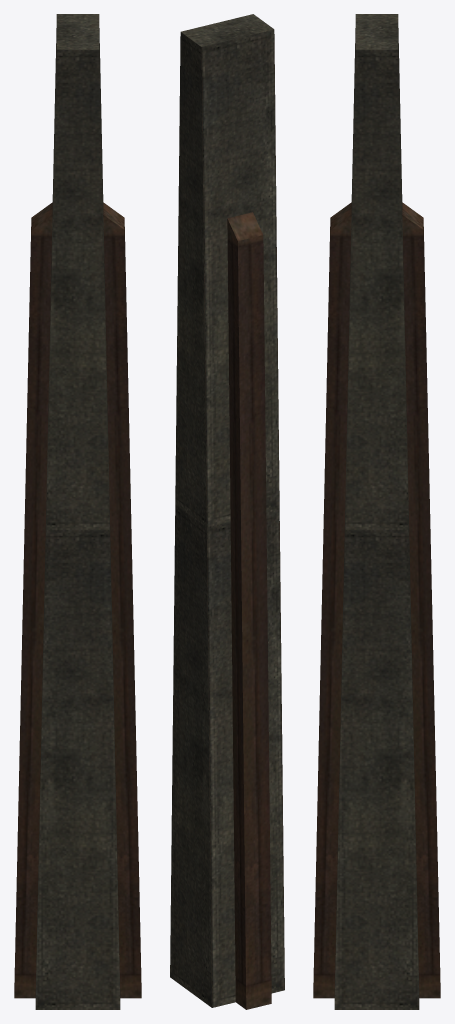
The model's file is metal_fence_hr_1_pillar_1_tall.obj.
The picture shows the model from 3 angles, left to right: view 1: azimuth 90°, elevation 25°; view 2: azimuth 210°, elevation 25°; view 3: azimuth 270°, elevation 25°; orthographic projection.
Visible parts, largest first — view 1: metal_fence_hr_1_pillar_1_tall; view 2: metal_fence_hr_1_pillar_1_tall; view 3: metal_fence_hr_1_pillar_1_tall.
Boxes of the visible parts, x1,y1,x2,y2 form: metal_fence_hr_1_pillar_1_tall: (14,14,141,1009); metal_fence_hr_1_pillar_1_tall: (170,14,284,1009); metal_fence_hr_1_pillar_1_tall: (313,14,440,1009).
Bounding box in the file's own units: 0.4 × 5 × 0.6.
